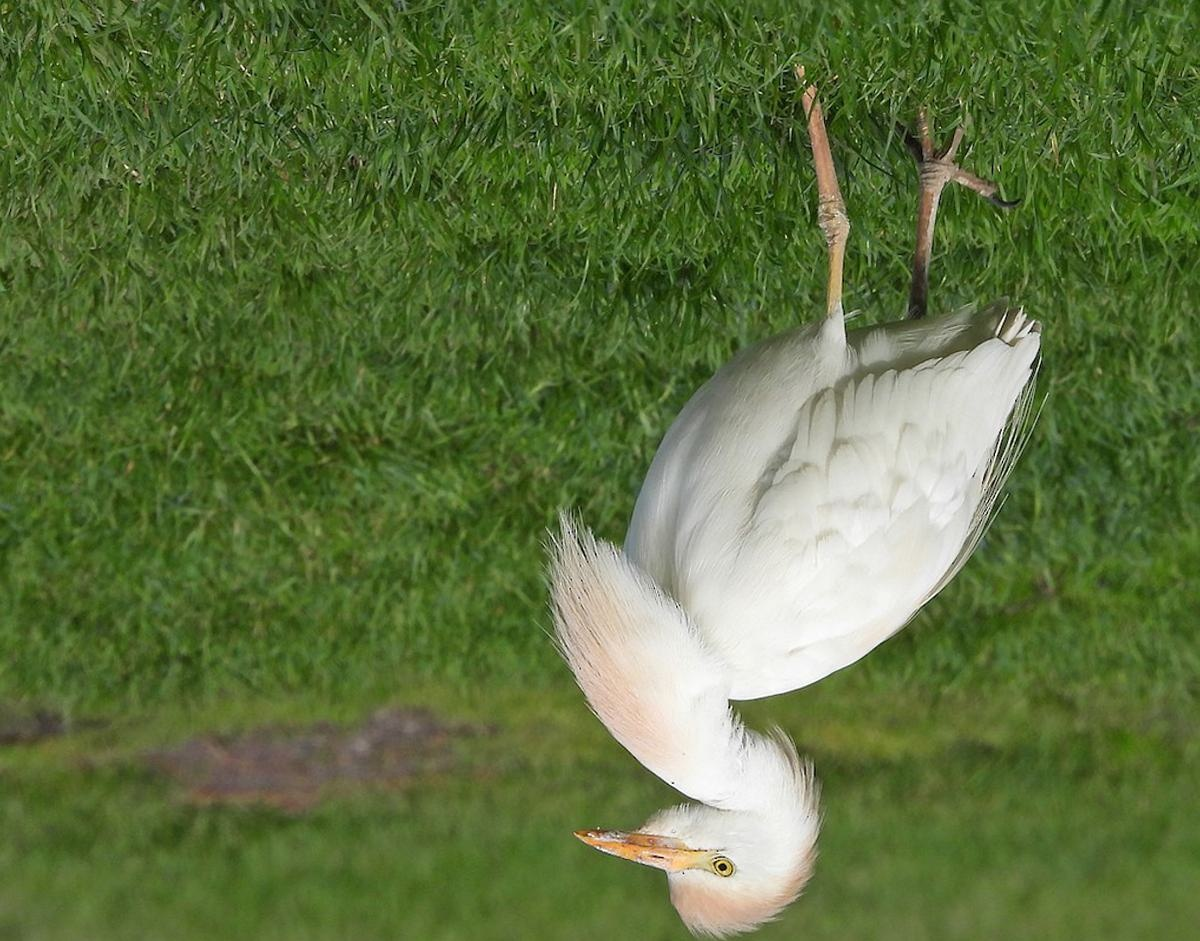egret: (543, 54, 1026, 930)
